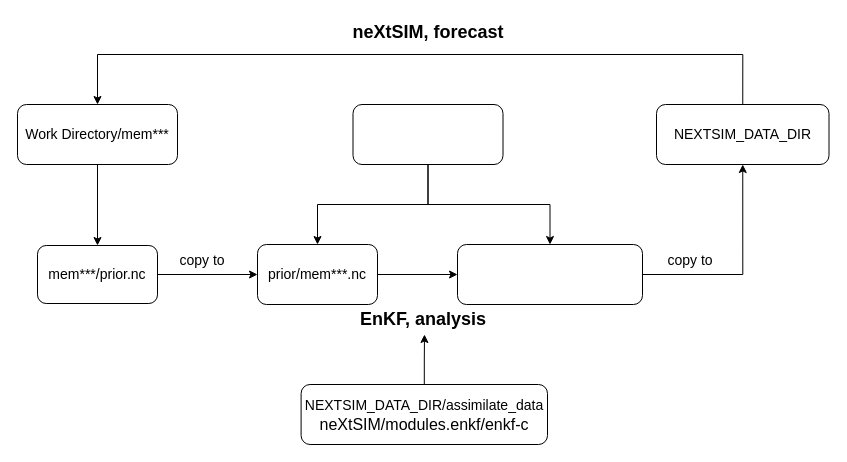
Some shapes in this 847 by 462 pixel diagram are drawn without their labels. The centre of each missing label's shape, as x and y in pixels:
FILTER reference_grid.nc: the point at 427,134
mem***.nc.analysis: the point at 549,274
